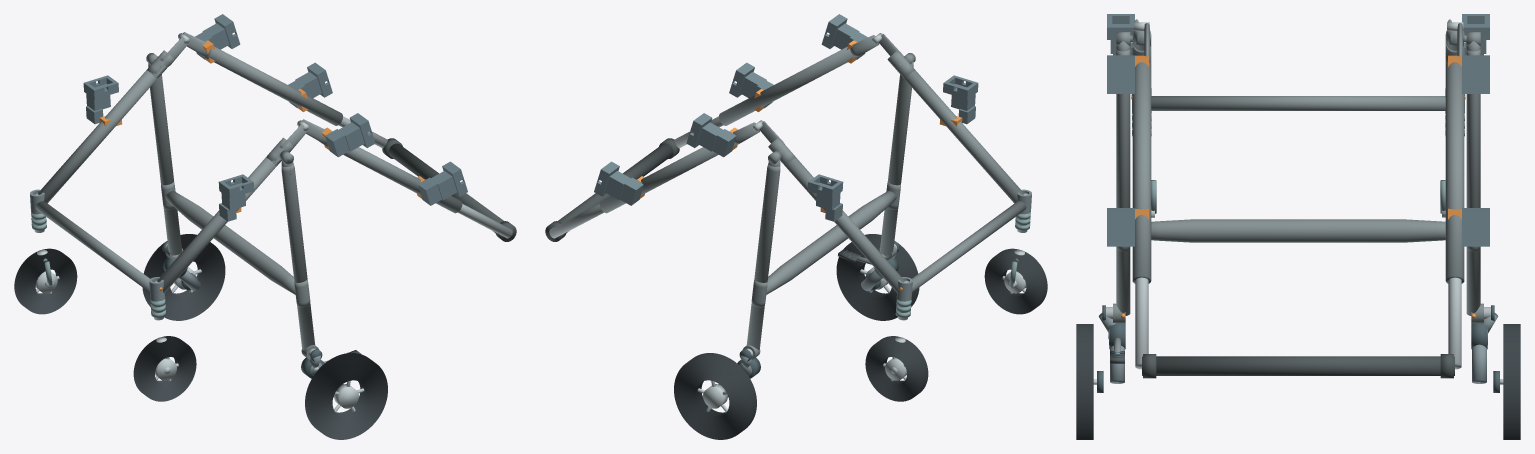
Rendered from w650_state2_wheel_S.glb.
The picture shows the model from 3 angles, left to right: view 1: azimuth 30°, elevation 25°; view 2: azimuth 150°, elevation 25°; view 3: azimuth 270°, elevation 25°; orthographic projection. The views are drawn at different scales.
Visible parts, largest first — view 1: RL_tire.010, RR_tire.010, FL_tire.010, FR_tire.010, V46_rearbar.010, main_lower_1.010, V46_rear_leg_-1.010, main_upper_1.010, V46_rear_leg_1.010, main_lower_-1.010, front_fixed_round_tube.010, main_upper_-1.010 (+8 smaller); view 2: RR_tire.010, RL_tire.010, FR_tire.010, FL_tire.010, V46_rearbar.010, main_lower_-1.010, V46_rear_leg_1.010, main_upper_-1.010, V46_rear_leg_-1.010, main_lower_1.010, front_fixed_round_tube.010, main_upper_1.010 (+8 smaller); view 3: V46_rearbar.010, round_handle.009, front_fixed_round_tube.010, main_upper_-1.010, main_upper_1.010, V46_rear_leg_1.010, V46_rear_leg_-1.010, RL_tire.010, RR_tire.010, handle_slider_1.009, handle_slider_-1.009, Universal_Cabin_Receiver_H_1 (+6 smaller).
Boxes of the visible parts, x1=… form: RL_tire.010: x1=305, y1=353, x2=387, y2=439; RR_tire.010: x1=142, y1=234, x2=225, y2=320; FL_tire.010: x1=133, y1=336, x2=196, y2=401; FR_tire.010: x1=14, y1=248, x2=77, y2=314; V46_rearbar.010: x1=165, y1=191, x2=295, y2=294; main_lower_1.010: x1=38, y1=65, x2=165, y2=203; V46_rear_leg_-1.010: x1=281, y1=164, x2=315, y2=350; main_upper_1.010: x1=204, y1=46, x2=342, y2=125; V46_rear_leg_1.010: x1=150, y1=74, x2=182, y2=255; main_lower_-1.010: x1=157, y1=157, x2=280, y2=293; front_fixed_round_tube.010: x1=35, y1=201, x2=149, y2=292; main_upper_-1.010: x1=324, y1=143, x2=462, y2=213; RR_tire.010: x1=674, y1=353, x2=756, y2=439; RL_tire.010: x1=836, y1=234, x2=919, y2=320; FR_tire.010: x1=865, y1=336, x2=928, y2=401; FL_tire.010: x1=984, y1=248, x2=1047, y2=314; V46_rearbar.010: x1=766, y1=191, x2=896, y2=294; main_lower_-1.010: x1=896, y1=65, x2=1023, y2=203; V46_rear_leg_1.010: x1=746, y1=164, x2=780, y2=350; main_upper_-1.010: x1=719, y1=46, x2=857, y2=125; V46_rear_leg_-1.010: x1=879, y1=74, x2=911, y2=255; main_lower_1.010: x1=781, y1=157, x2=904, y2=293; front_fixed_round_tube.010: x1=912, y1=201, x2=1026, y2=292; main_upper_1.010: x1=599, y1=143, x2=737, y2=213; V46_rearbar.010: x1=1151, y1=219, x2=1445, y2=242; round_handle.009: x1=1142, y1=356, x2=1454, y2=375; front_fixed_round_tube.010: x1=1151, y1=96, x2=1445, y2=110; main_upper_-1.010: x1=1132, y1=62, x2=1151, y2=283; main_upper_1.010: x1=1445, y1=62, x2=1464, y2=283; V46_rear_leg_1.010: x1=1466, y1=49, x2=1480, y2=315; V46_rear_leg_-1.010: x1=1116, y1=49, x2=1130, y2=315; RL_tire.010: x1=1076, y1=324, x2=1093, y2=439; RR_tire.010: x1=1503, y1=324, x2=1520, y2=439; handle_slider_1.009: x1=1448, y1=277, x2=1461, y2=369; handle_slider_-1.009: x1=1135, y1=277, x2=1148, y2=369; Universal_Cabin_Receiver_H_1: x1=1462, y1=208, x2=1489, y2=246.
Bounding box in the file's own units: 0.9949 × 0.76 × 0.766.
